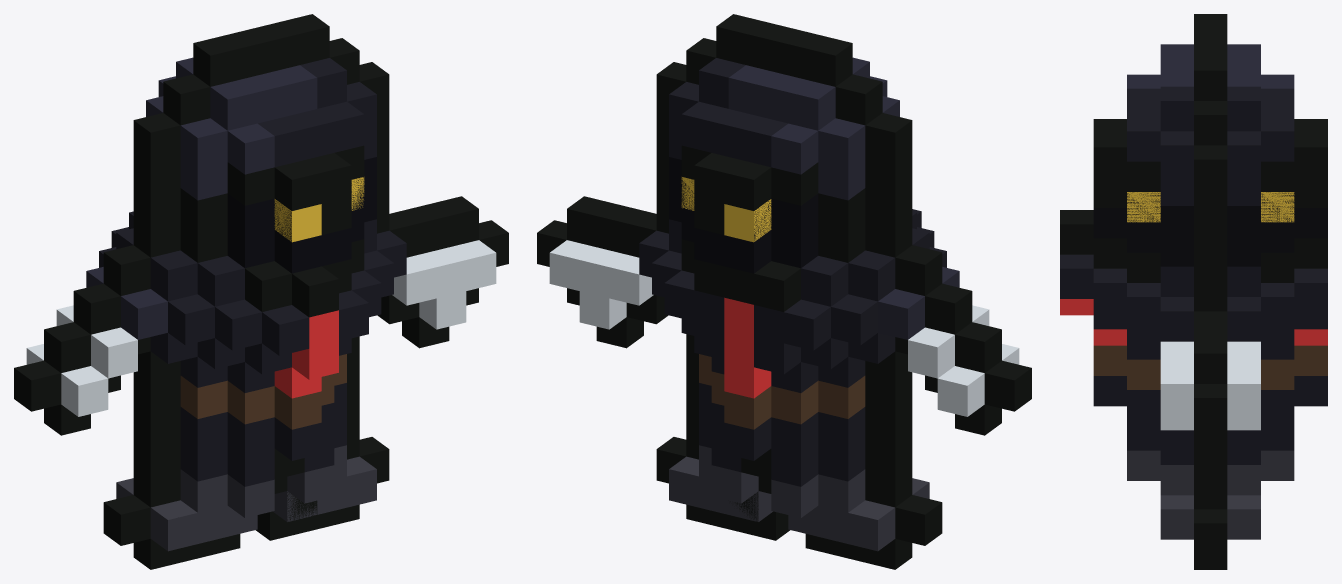
The model's file is ninja.glb.
3 views of the same model, side by side, from view 1: azimuth 30°, elevation 25°; view 2: azimuth 150°, elevation 25°; view 3: azimuth 270°, elevation 25° (orthographic). The views are drawn at different scales.
Parts seen in each view (by area): view 1: f0, f2, f6, f1; view 2: f0, f2, f6, f1; view 3: f0, f6, f2, f1.
Part boxes in pixels (box(x1,y1,x2,y2)): f0: box(14, 14, 478, 569); f2: box(103, 337, 389, 569); f6: box(389, 196, 508, 347); f1: box(274, 177, 364, 272); f0: box(567, 14, 1031, 569); f2: box(656, 334, 942, 568); f6: box(537, 196, 656, 347); f1: box(681, 178, 771, 271); f0: box(1060, 14, 1327, 569); f6: box(1160, 311, 1260, 428); f2: box(1160, 460, 1260, 569); f1: box(1127, 192, 1294, 252).
Size of the model in its own units: 1 by 1 by 0.5.
